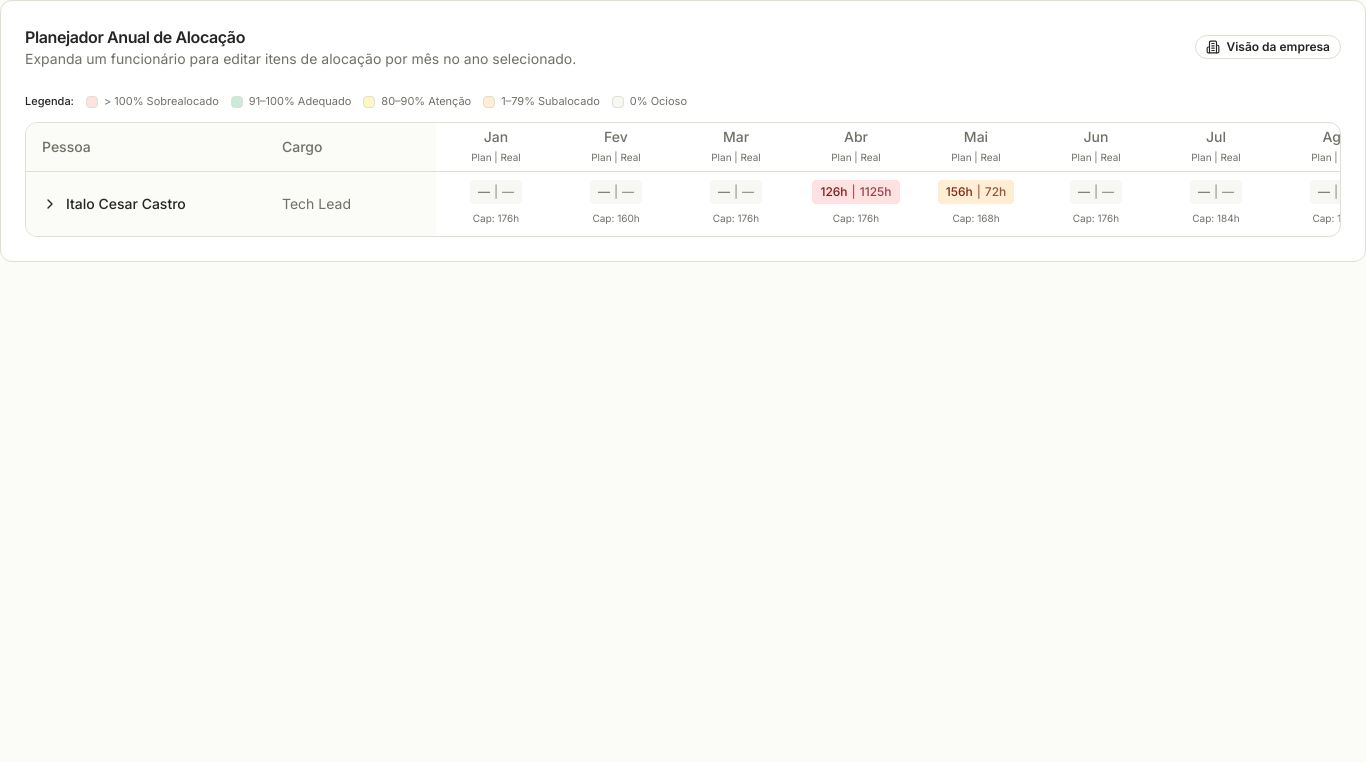
AllocationOverview › mantem o real correto mesmo quando existem mais de 1000 lancamentos no ano
Check: the text "1125h" is shown, box [860,184,892,200]
Click the text "Italo Cesar Castro". click: (126, 204)
box: [66,194,186,214]
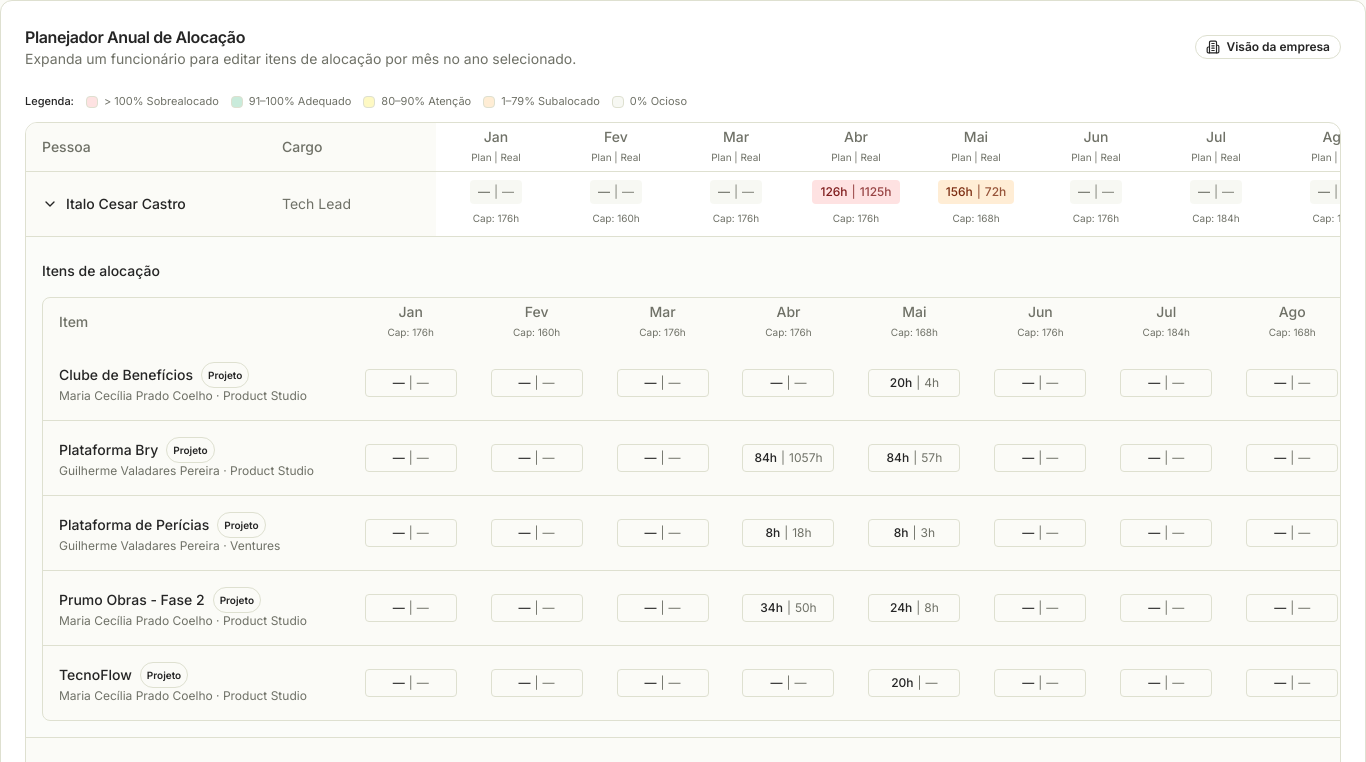
Check: the text "1057h" is shown, box [789,450,823,466]
